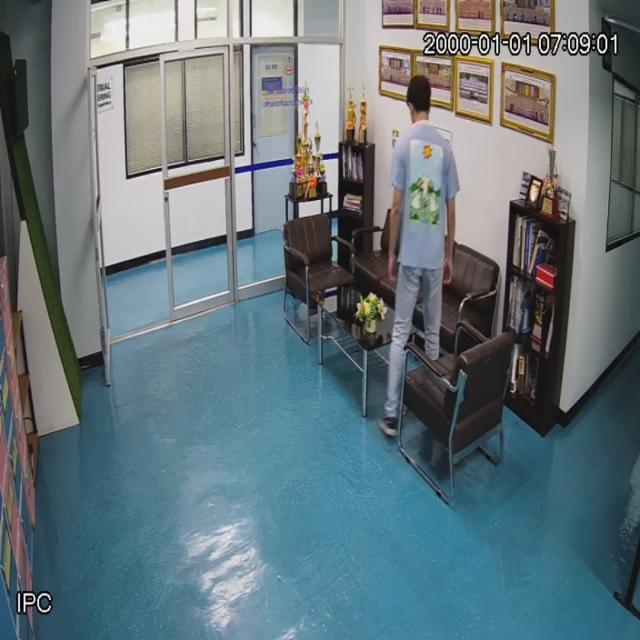normal: (391, 76, 458, 342)
